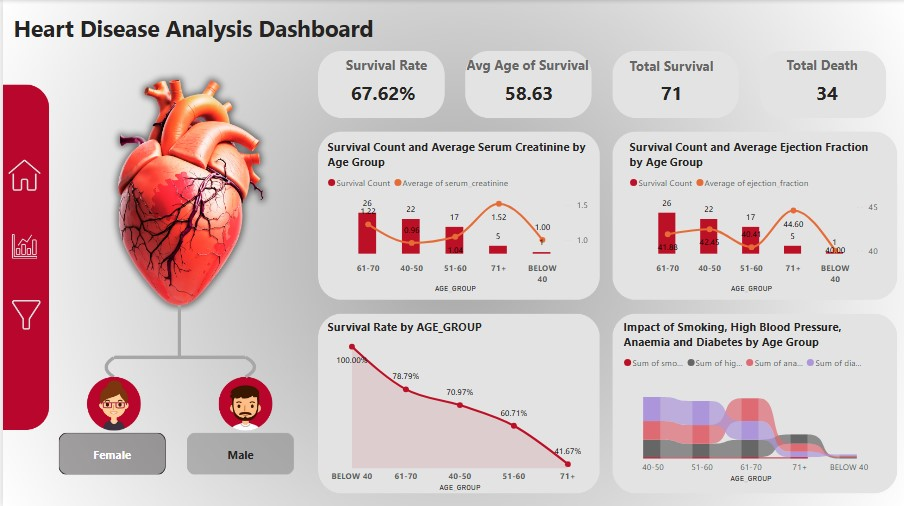

The page's visual inventory and layout, read from the dashboard file:
{"tool":"powerbi","page":{"name":"Page 1","canvas":[1280,720],"ordinal":0},"visuals":[{"type":"textbox","box":[10.1,13.4,535.9,60.5],"z":0},{"type":"card","fields":{"Values":["heart_Disease_clinical_records_.Survival Rate"]},"box":[436.5,62.4,204.1,140.3],"z":1000},{"type":"card","fields":{"Values":["heart_Disease_clinical_records_.Average of Survival"]},"box":[639.2,62.4,212.6,140.3],"z":2000},{"type":"card","fields":{"Values":["heart_Disease_clinical_records_.Total Survivour"]},"box":[851.8,62.4,191.3,140.3],"z":3000},{"type":"card","fields":{"Values":["heart_Disease_clinical_records_.Total Death"]},"box":[1068.7,68,198.4,129],"z":4000},{"type":"textbox","box":[470.6,73.7,148.8,38.3],"z":5000},{"type":"textbox","box":[652,73.7,199.8,39.7],"z":6000},{"type":"textbox","box":[883,75.1,150.2,38.3],"z":7000},{"type":"textbox","box":[1105.9,73.4,125.3,40.3],"z":8000},{"type":"lineClusteredColumnComboChart","title":"Survival Count and Average Serum Creatinine by Age Group","fields":{"Category":["heart_Disease_clinical_records_.AGE_GROUP"],"Y":["CountNonNull(heart_Disease_clinical_records_.DEATH_EVENT)"],"Y2":["Avg(heart_Disease_clinical_records_.serum_creatinine)"]},"box":[455,197,381.3,222.5],"z":9000},{"type":"lineClusteredColumnComboChart","title":"Survival Count and Average Ejection Fraction by Age Group","fields":{"Category":["heart_Disease_clinical_records_.AGE_GROUP"],"Y":["CountNonNull(heart_Disease_clinical_records_.DEATH_EVENT)"],"Y2":["Avg(heart_Disease_clinical_records_.ejection_fraction)"]},"box":[883,197,362.8,222.5],"z":10000},{"type":"lineChart","fields":{"Category":["heart_Disease_clinical_records_.AGE_GROUP"],"Y":["heart_Disease_clinical_records_.Survival Rate"]},"box":[455,452.1,381.3,249.4],"z":11000},{"type":"ribbonChart","title":"Impact of Smoking, High Blood Pressure, Anaemia and Diabetes by Age Group","fields":{"Category":["heart_Disease_clinical_records_.AGE_GROUP"],"Y":["Sum(heart_Disease_clinical_records_.smoking)","Sum(heart_Disease_clinical_records_.high_blood_pressure)","Sum(heart_Disease_clinical_records_.anaemia)","Sum(heart_Disease_clinical_records_.diabetes)"]},"box":[874.5,452.1,371.3,236.7],"z":12000},{"type":"advancedSlicerVisual","fields":{"Values":["heart_Disease_clinical_records_.Gender"]},"box":[73.7,608,345.8,70.9],"z":13000}]}

Visuals, with their boxes in screenshot pixels (x1, y1, x2, y2), scaled from the page's 1280x720 canvas onto the 904x506 screenshot:
textbox: [7, 9, 386, 52]
card - heart_Disease_clinical_records_.Survival Rate: [308, 44, 452, 142]
card - heart_Disease_clinical_records_.Average of Survival: [451, 44, 602, 142]
card - heart_Disease_clinical_records_.Total Survivour: [602, 44, 737, 142]
card - heart_Disease_clinical_records_.Total Death: [755, 48, 895, 138]
textbox: [332, 52, 437, 79]
textbox: [460, 52, 602, 80]
textbox: [624, 53, 730, 80]
textbox: [781, 52, 870, 80]
"Survival Count and Average Serum Creatinine by Age Group" lineClusteredColumnComboChart: [321, 138, 591, 295]
"Survival Count and Average Ejection Fraction by Age Group" lineClusteredColumnComboChart: [624, 138, 880, 295]
lineChart - heart_Disease_clinical_records_.AGE_GROUP x heart_Disease_clinical_records_.Survival Rate: [321, 318, 591, 493]
"Impact of Smoking, High Blood Pressure, Anaemia and Diabetes by Age Group" ribbonChart: [618, 318, 880, 484]
advancedSlicerVisual - heart_Disease_clinical_records_.Gender: [52, 427, 296, 477]
